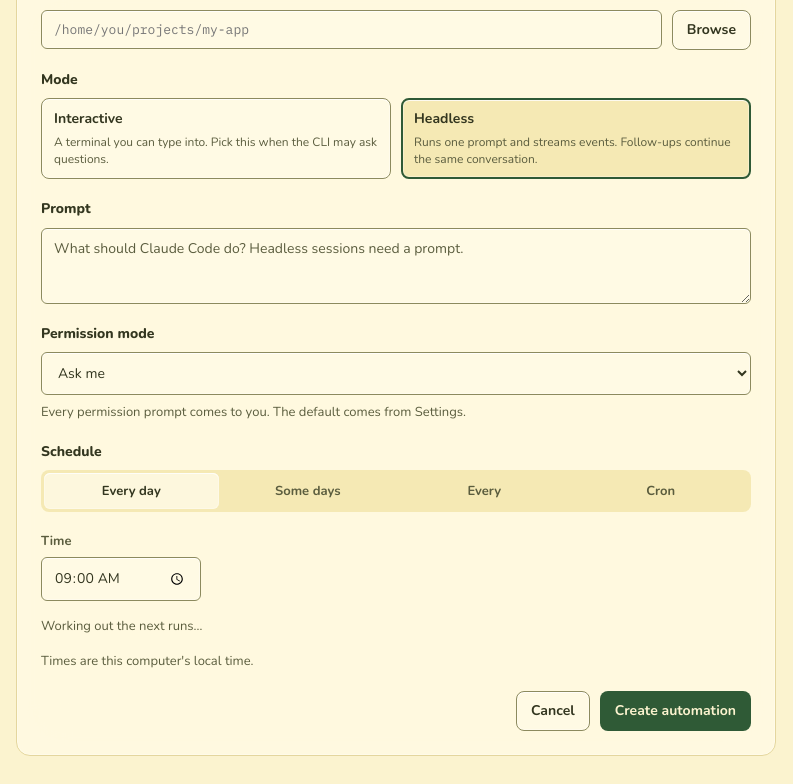
Test: a cron expression the desktop refuses is explained under the field
(page scrolled)
Click the radio button labelled "Cron" at [661, 491], box [646,482,675,500]
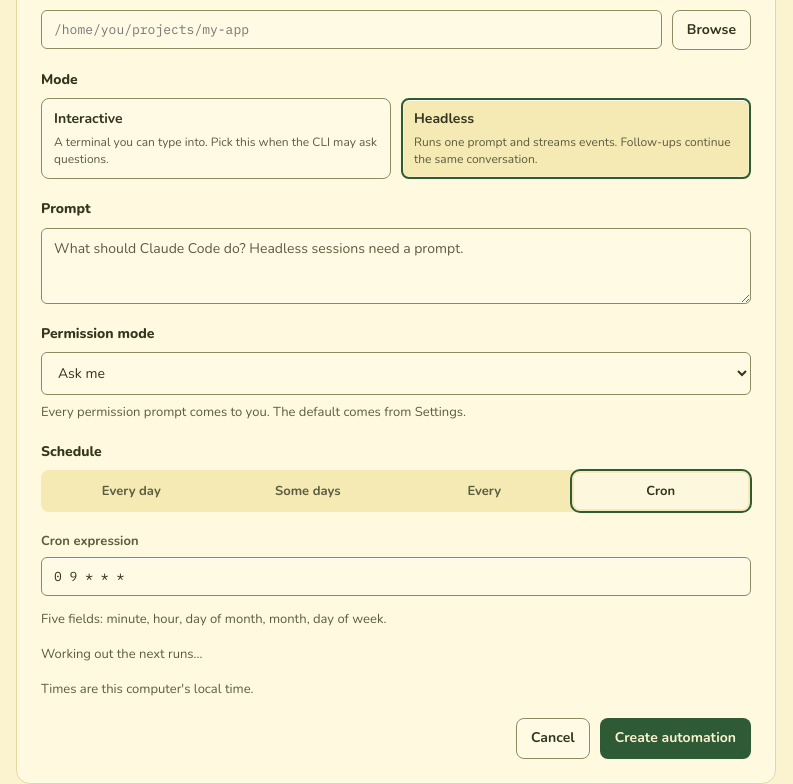
Check: the field labelled "Cron expression" holds "0 9 * * *"
Replace the text in the field labelled "Cron expression" with "0 25 * * *" at [396, 576], box [41,557,751,596]
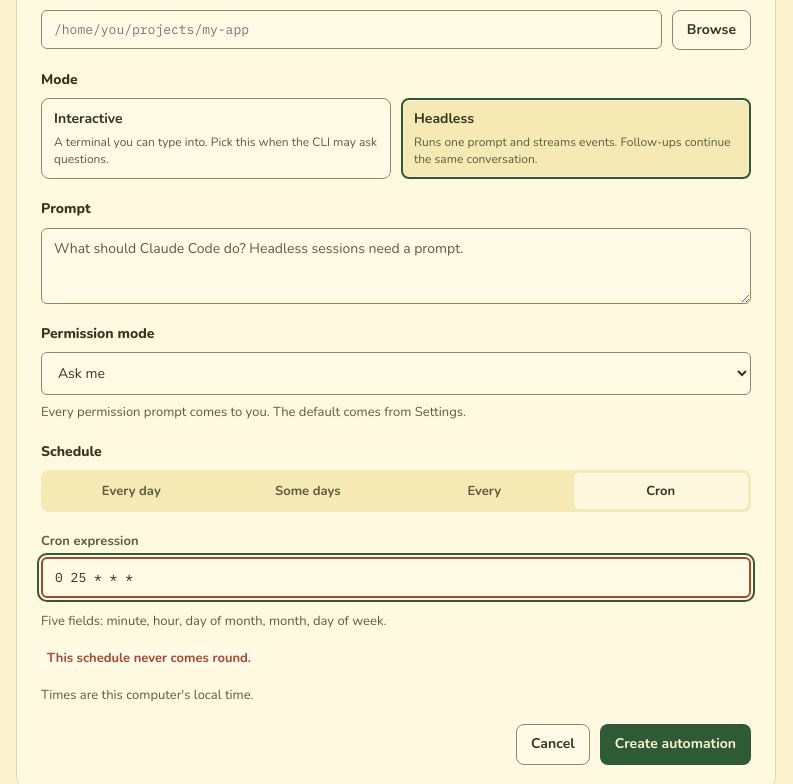
Check: the text "This schedule never comes round." is shown, box [41,647,257,670]
